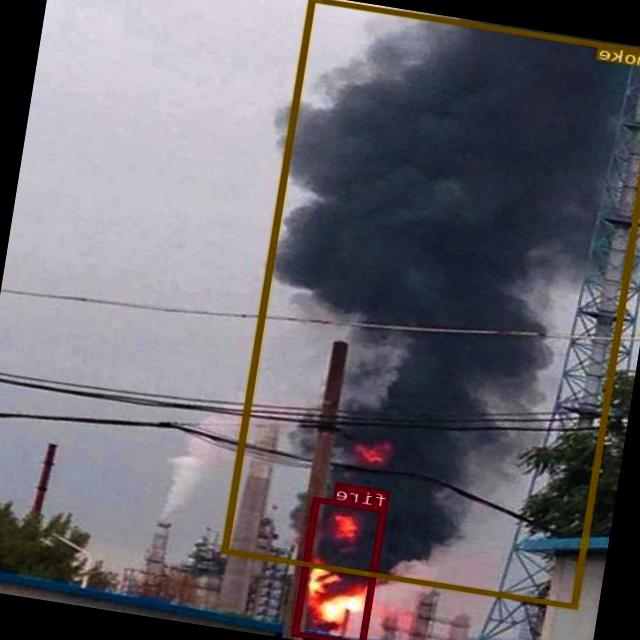fire: (294, 497, 388, 640)
smoke: (223, 0, 640, 608)
